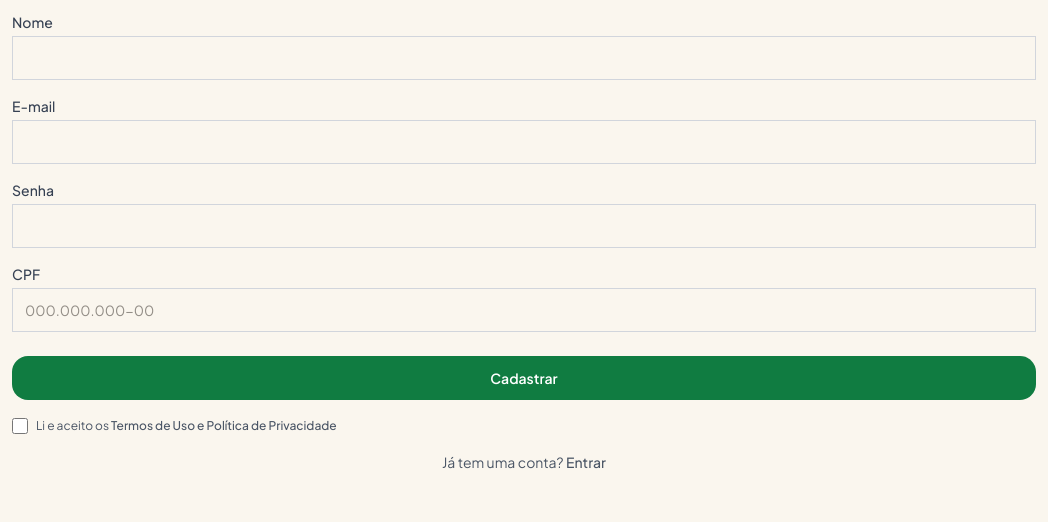
Test case: RegisterForm › should display API error message when register fails
Type "João Silva" into the field labelled "Nome" at (524, 58), box [12,36,1036,80]
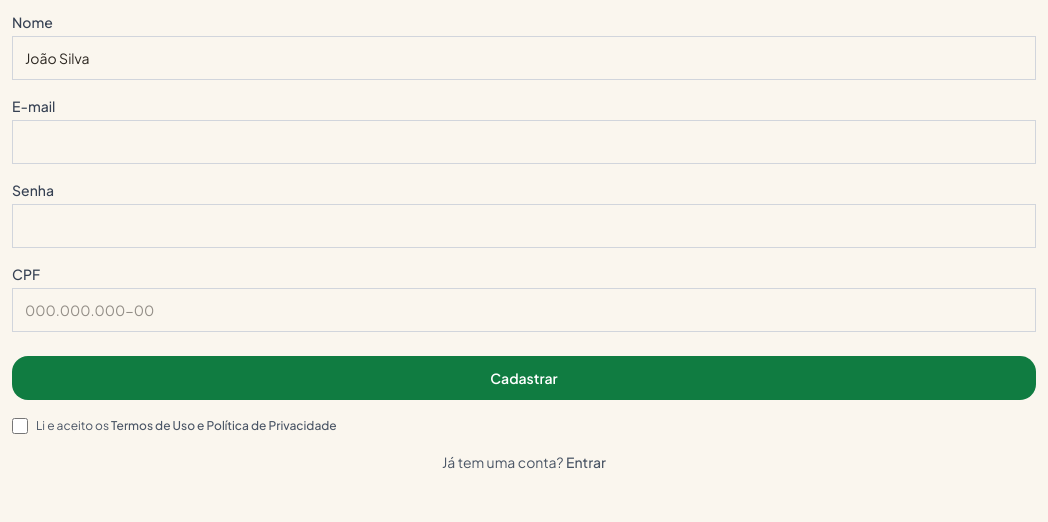
Type "joao@example.com" into the field labelled "E-mail" at (524, 142), box [12,120,1036,164]
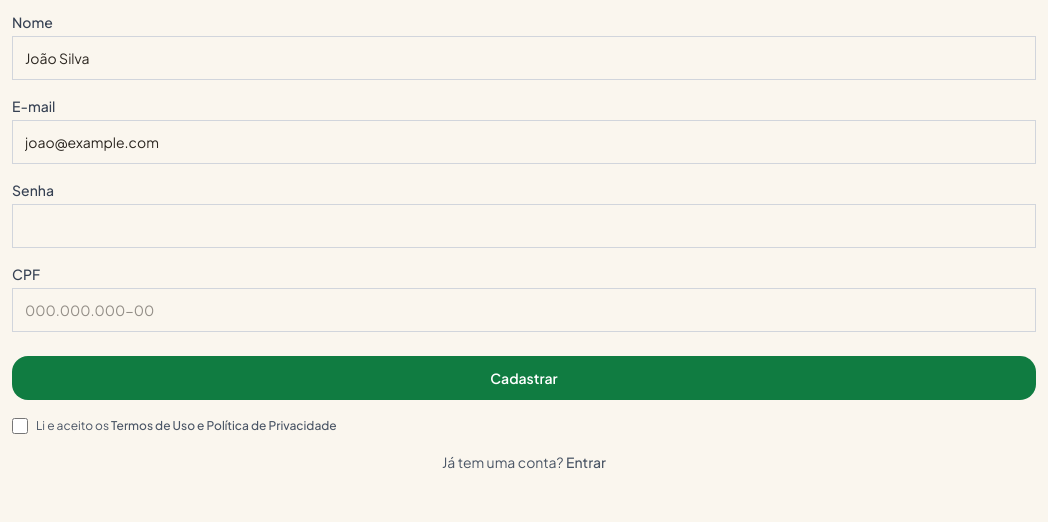
Type "senhasegura123" into the password field labelled "Senha" at (524, 226), box [12,204,1036,248]
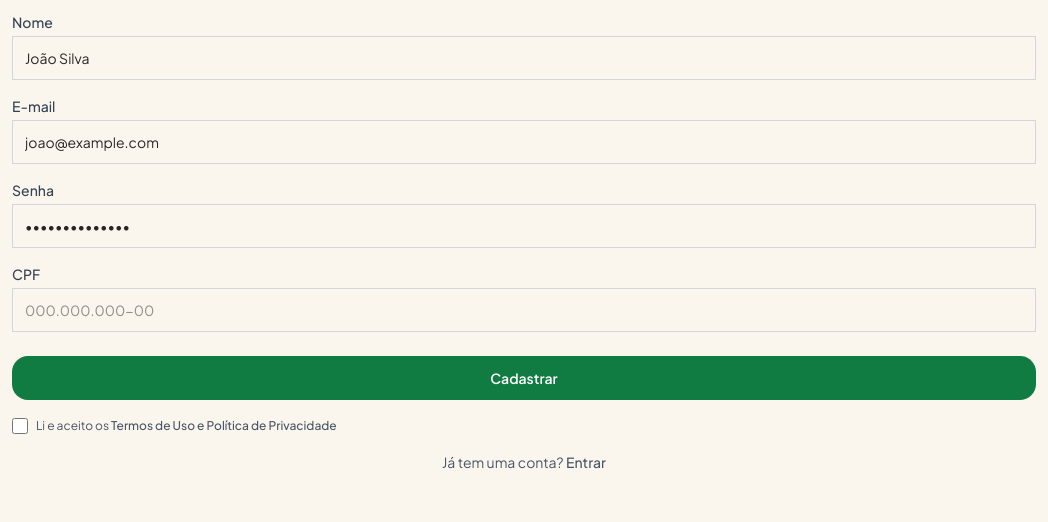
Type "52998224725" into the field labelled "CPF" at (524, 310), box [12,288,1036,332]
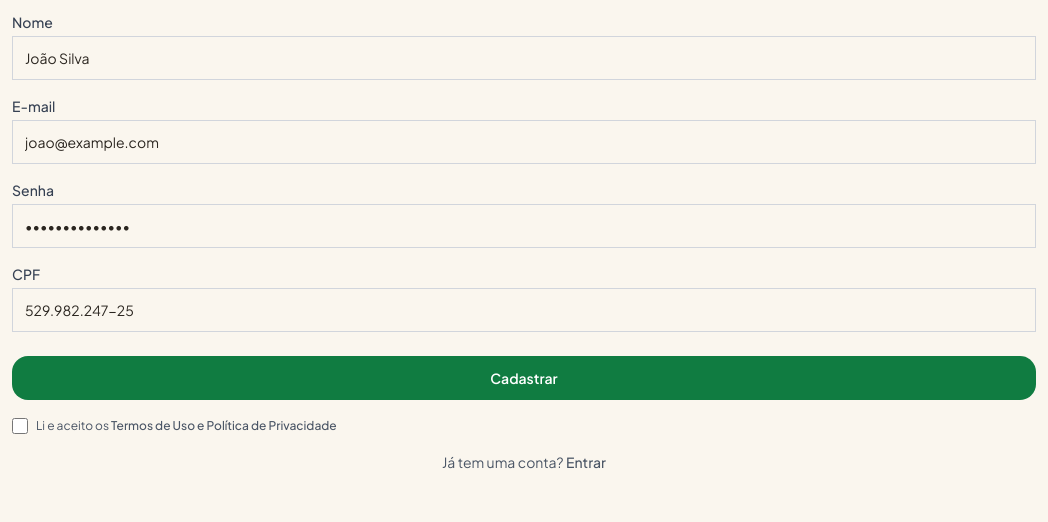
Click the checkbox labelled "Li e aceito os Termos de Uso e Política de Privacidade" at (20, 426), box [12,418,28,434]
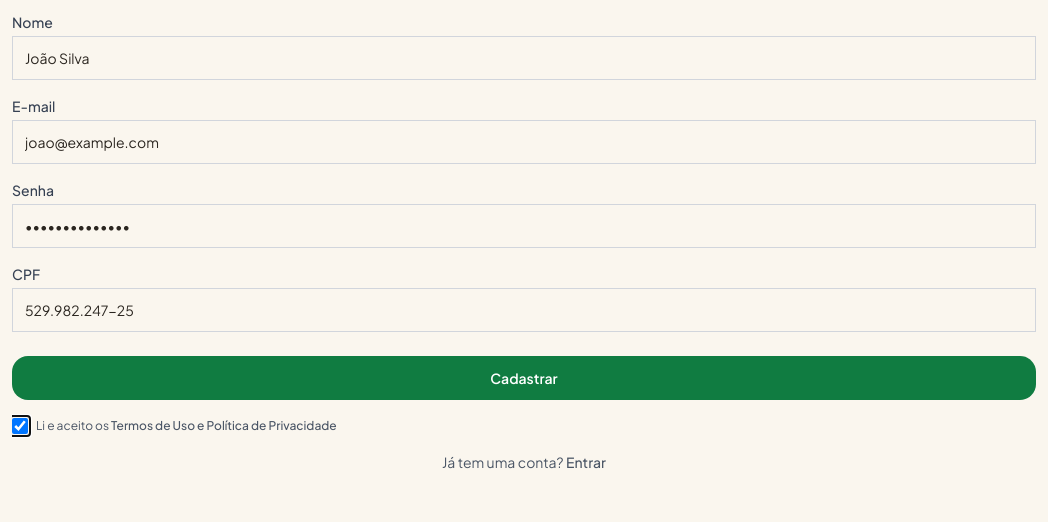
Click the button "Cadastrar" at (524, 378), box [12,356,1036,400]
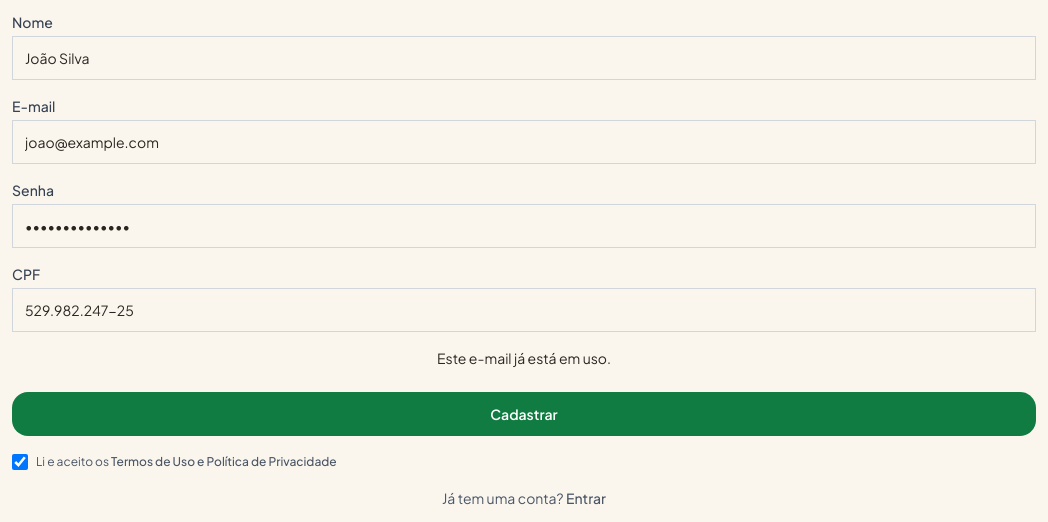
Expected: the text "Este e-mail já está em uso." is shown, [437,349,611,367]
